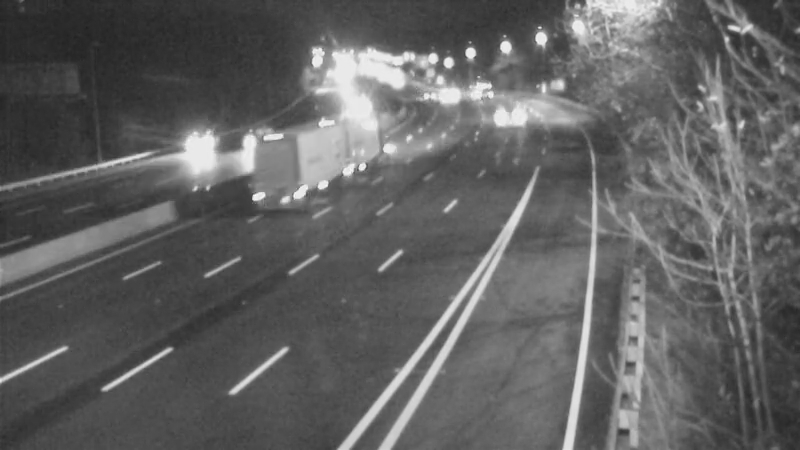vehicle: (220, 124, 300, 204), (156, 111, 236, 191), (426, 70, 476, 120), (479, 92, 529, 142), (224, 116, 274, 166), (330, 84, 380, 134)
